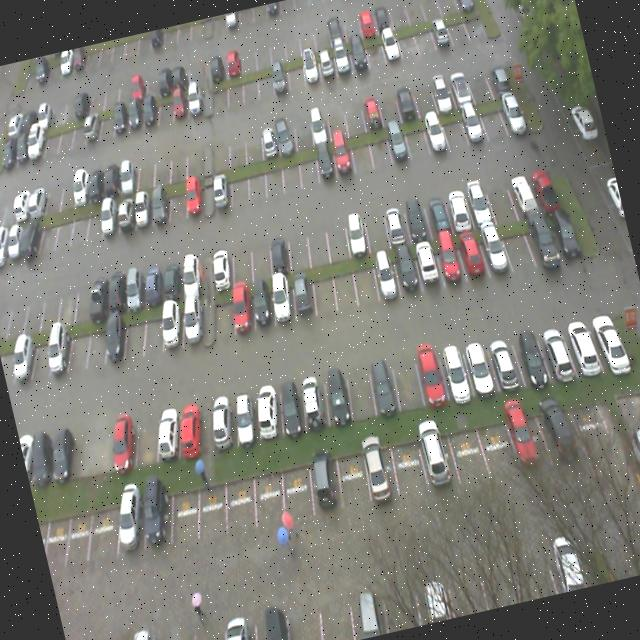empty: (158, 478, 208, 549), (184, 474, 233, 542), (76, 500, 126, 566), (273, 462, 321, 526), (214, 470, 262, 530), (245, 466, 292, 526), (78, 416, 122, 479), (53, 507, 100, 565), (333, 448, 374, 512), (111, 302, 153, 363), (123, 410, 165, 470), (130, 295, 170, 357), (340, 362, 378, 426), (388, 350, 426, 413), (498, 216, 536, 272), (203, 285, 237, 347), (483, 168, 520, 224), (306, 264, 341, 320), (326, 262, 359, 314), (158, 174, 192, 224), (220, 242, 253, 288), (280, 224, 312, 271), (350, 256, 380, 306), (300, 220, 332, 266), (318, 216, 348, 262), (243, 234, 274, 278), (360, 207, 390, 252), (242, 158, 270, 206), (346, 130, 376, 174), (258, 153, 286, 200), (276, 150, 304, 196), (442, 108, 471, 150), (225, 162, 252, 206), (478, 98, 507, 138), (367, 126, 393, 170), (404, 118, 431, 159), (294, 148, 319, 188)
occupied: (128, 487, 182, 556), (104, 494, 154, 560), (582, 302, 628, 368), (534, 316, 578, 384), (246, 380, 292, 444), (302, 452, 348, 516), (358, 443, 402, 509), (511, 322, 552, 388), (220, 278, 262, 342), (560, 309, 600, 375), (486, 329, 527, 392), (462, 337, 502, 399), (99, 415, 141, 474), (270, 377, 310, 437), (293, 374, 333, 434), (150, 298, 190, 357), (145, 404, 185, 463), (262, 268, 300, 330), (224, 386, 264, 444), (542, 202, 582, 259), (168, 404, 208, 461), (94, 306, 131, 366), (412, 344, 448, 405), (172, 291, 208, 351), (317, 368, 353, 428), (438, 342, 474, 402), (241, 278, 278, 336), (363, 358, 400, 416), (441, 178, 476, 233), (203, 396, 240, 448), (478, 224, 512, 278), (116, 263, 153, 311), (134, 260, 170, 309), (528, 162, 563, 212), (422, 186, 454, 240), (286, 270, 318, 324), (412, 238, 444, 292), (507, 165, 540, 217), (369, 251, 402, 303), (99, 269, 136, 315), (125, 183, 159, 233), (454, 231, 488, 281), (522, 216, 556, 266), (401, 188, 433, 241), (464, 175, 496, 228), (435, 236, 467, 288), (156, 257, 192, 302), (391, 246, 422, 298), (144, 179, 176, 229), (108, 187, 142, 234), (495, 88, 529, 135), (178, 252, 212, 299), (378, 198, 411, 246), (339, 208, 370, 258), (204, 164, 236, 212), (177, 173, 209, 220), (204, 248, 236, 290), (461, 99, 490, 145), (262, 232, 292, 274), (310, 143, 338, 185), (384, 122, 411, 164), (422, 112, 448, 152), (330, 137, 354, 176)
